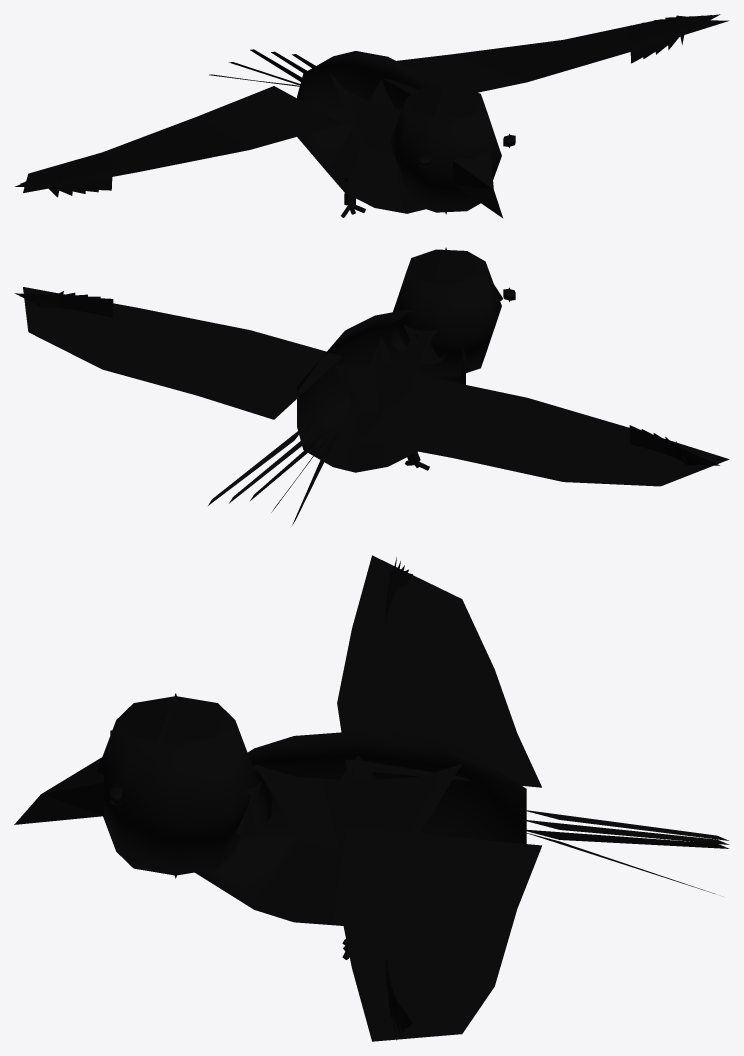
The model's file is gliding_06.glb.
3 views of the same model, one above another, from view 1: azimuth 30°, elevation 25°; view 2: azimuth 150°, elevation 25°; view 3: azimuth 270°, elevation 25° (orthographic). The views are drawn at different scales.
Parts seen in each view (by area): view 1: RaptorBody; view 2: RaptorBody; view 3: RaptorBody.
Part boxes in pixels (<box>): RaptorBody: <box>15,14,729,218</box>; RaptorBody: <box>14,247,729,525</box>; RaptorBody: <box>14,555,729,1041</box>.
Size of the model in its own units: 1.79 by 0.4166 by 1.12.
7 materials, 7 textured.
